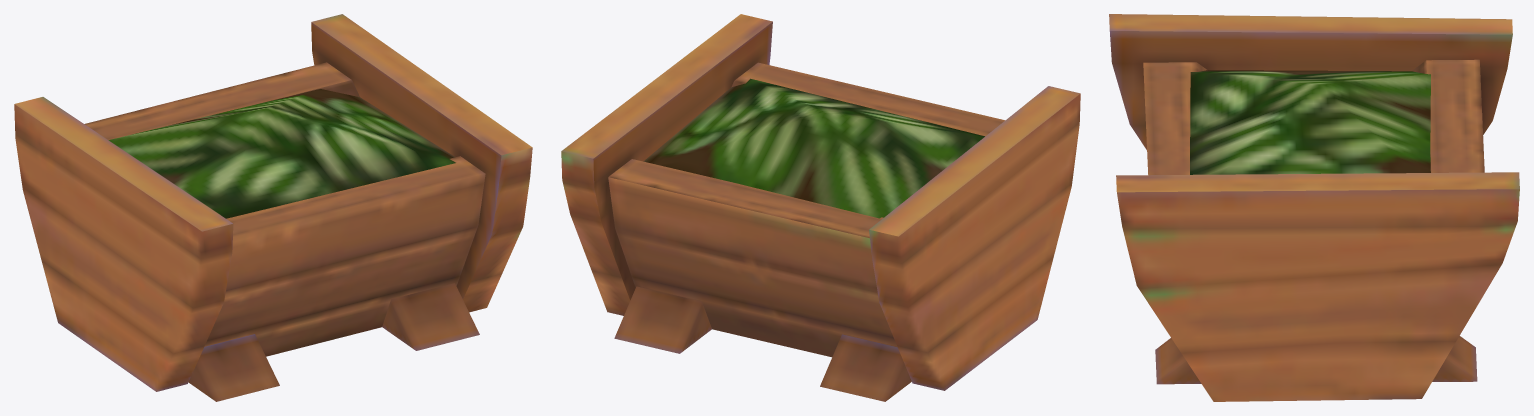
3 renders of one model, left to right at view 1: azimuth 30°, elevation 25°; view 2: azimuth 150°, elevation 25°; view 3: azimuth 270°, elevation 25°, orthographic. The views are drawn at different scales.
Parts seen in each view (by area): view 1: zc_5_14; view 2: zc_5_14; view 3: zc_5_14.
Part boxes in pixels (x1,y1,x2,y2): zc_5_14: (14, 14, 532, 401); zc_5_14: (561, 14, 1080, 401); zc_5_14: (1109, 14, 1519, 401).
Size of the model in its own units: 1.54 by 0.8899 by 1.48.
